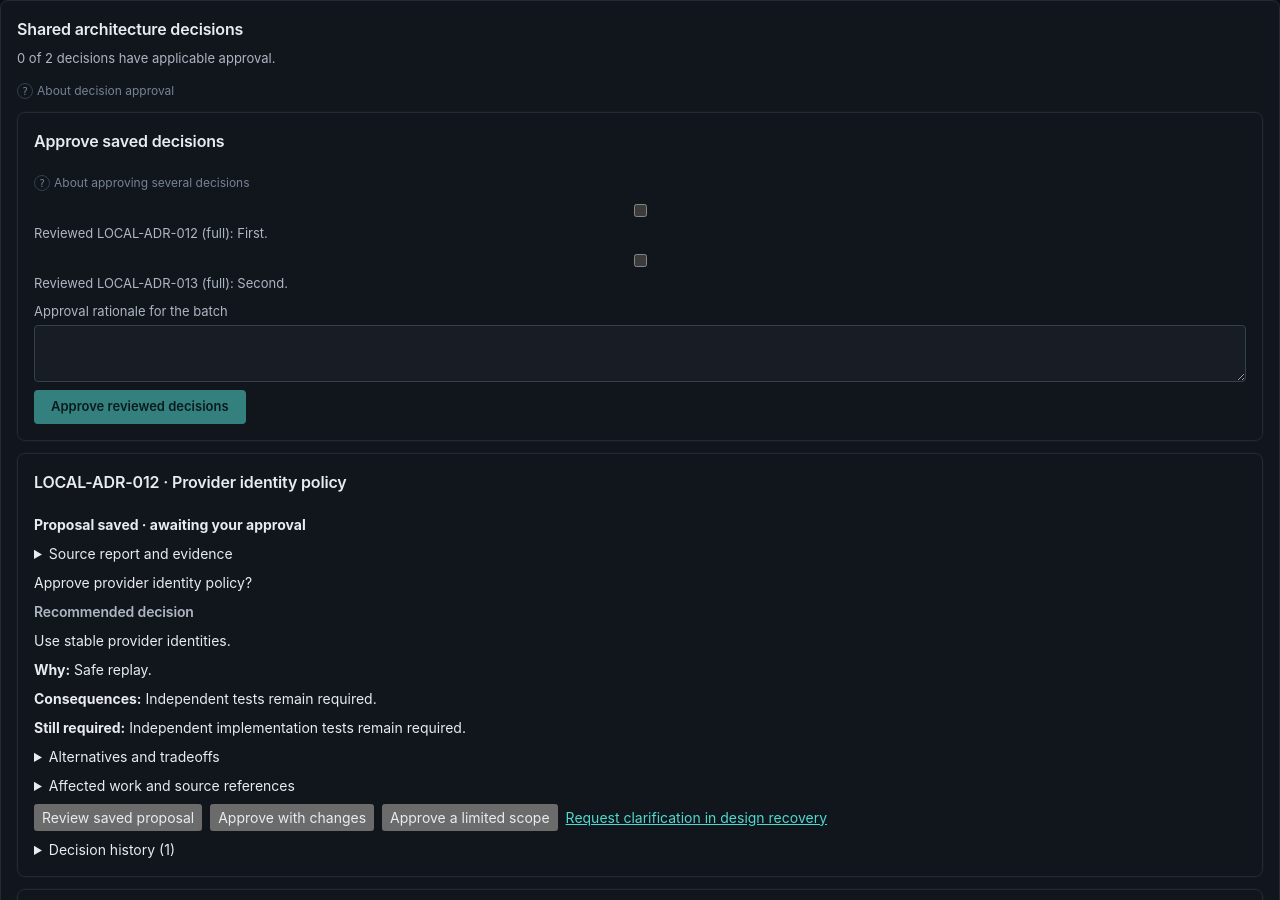
Test: keeps a batch’s report when its approvals leave fewer than two saved proposals (R-B6 increment 3 review M-2)
The width and height of the screenshot is (1280, 900).
Click the checkbox labelled "Reviewed LOCAL-ADR-012 (full): First.".
click(640, 210)  # box [38,204,1243,216]
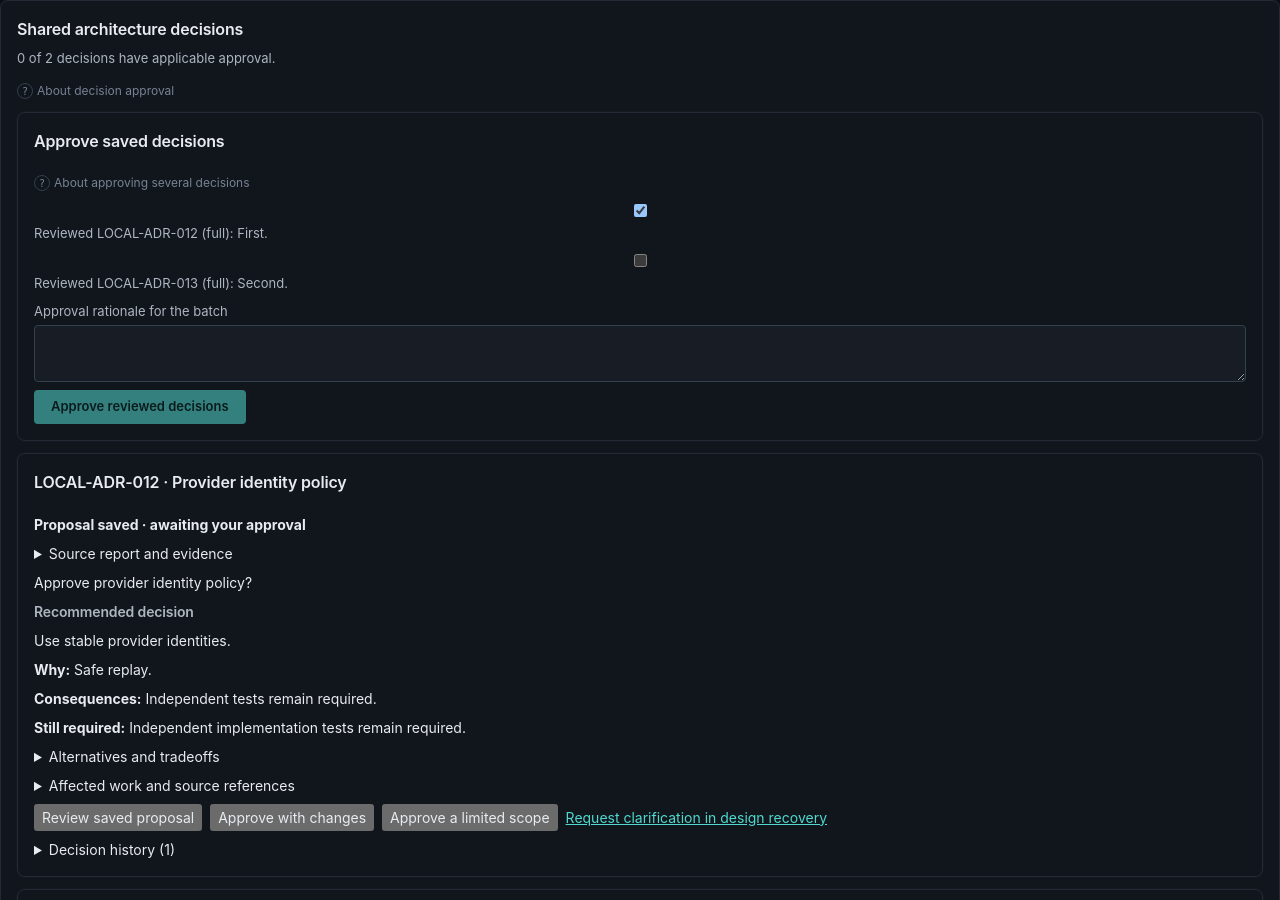
Click the checkbox labelled "Reviewed LOCAL-ADR-013 (full): Second.".
click(640, 260)  # box [38,254,1243,267]
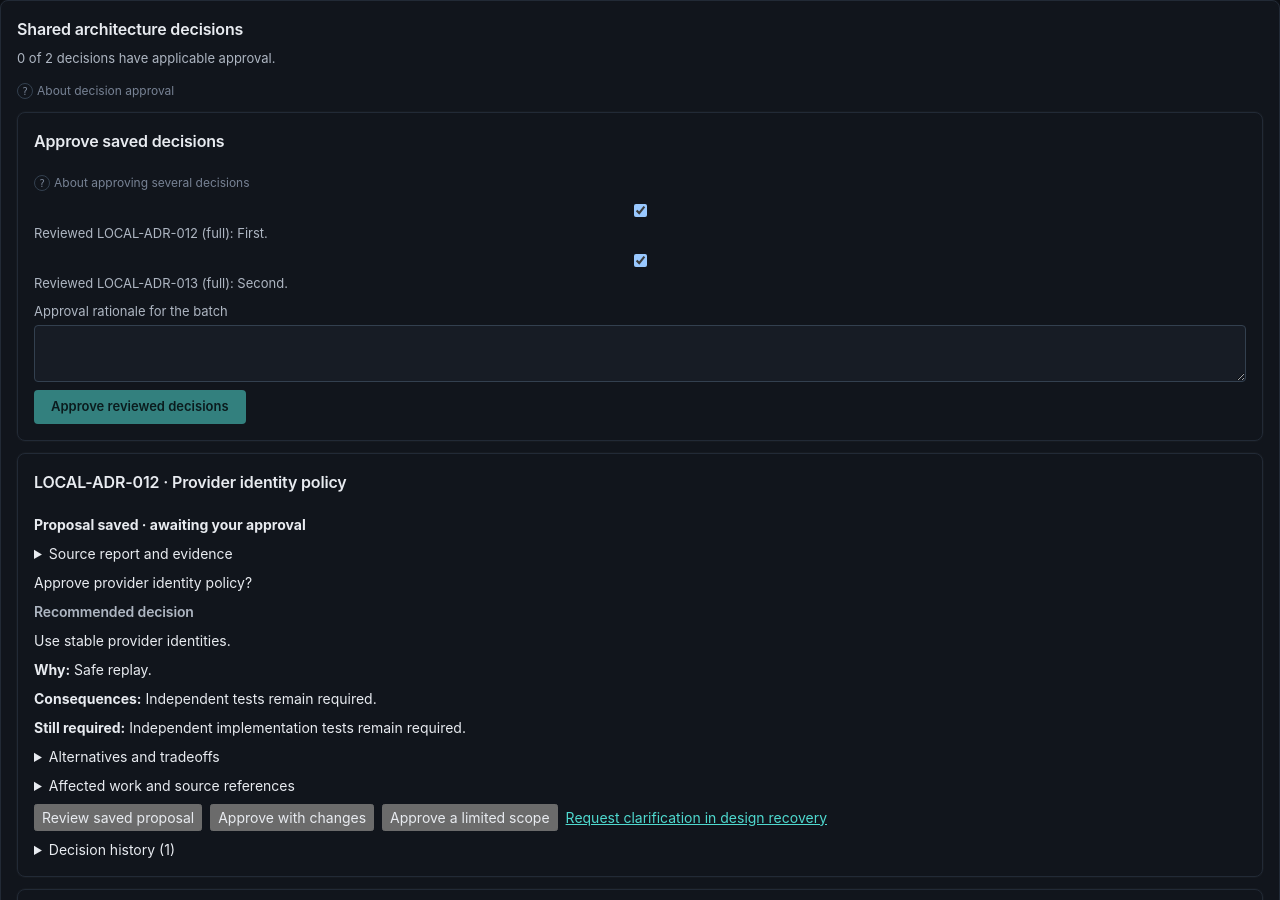
Type "Reviewed." into the text box labelled "Approval rationale for the batch".
click(640, 354); type("Reviewed.")  # box [34,325,1246,382]
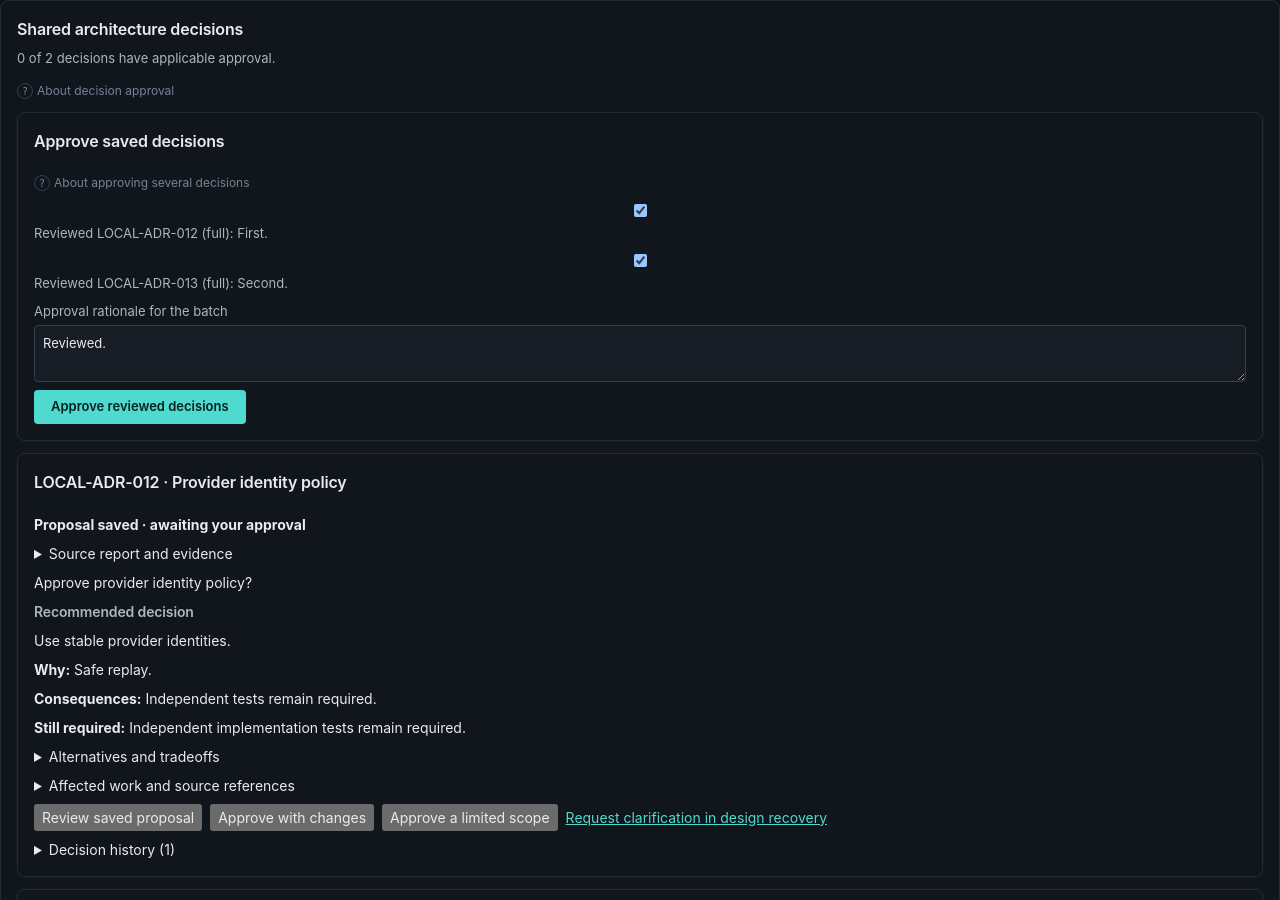
Click the button "Approve reviewed decisions".
click(140, 407)  # box [34,390,246,424]
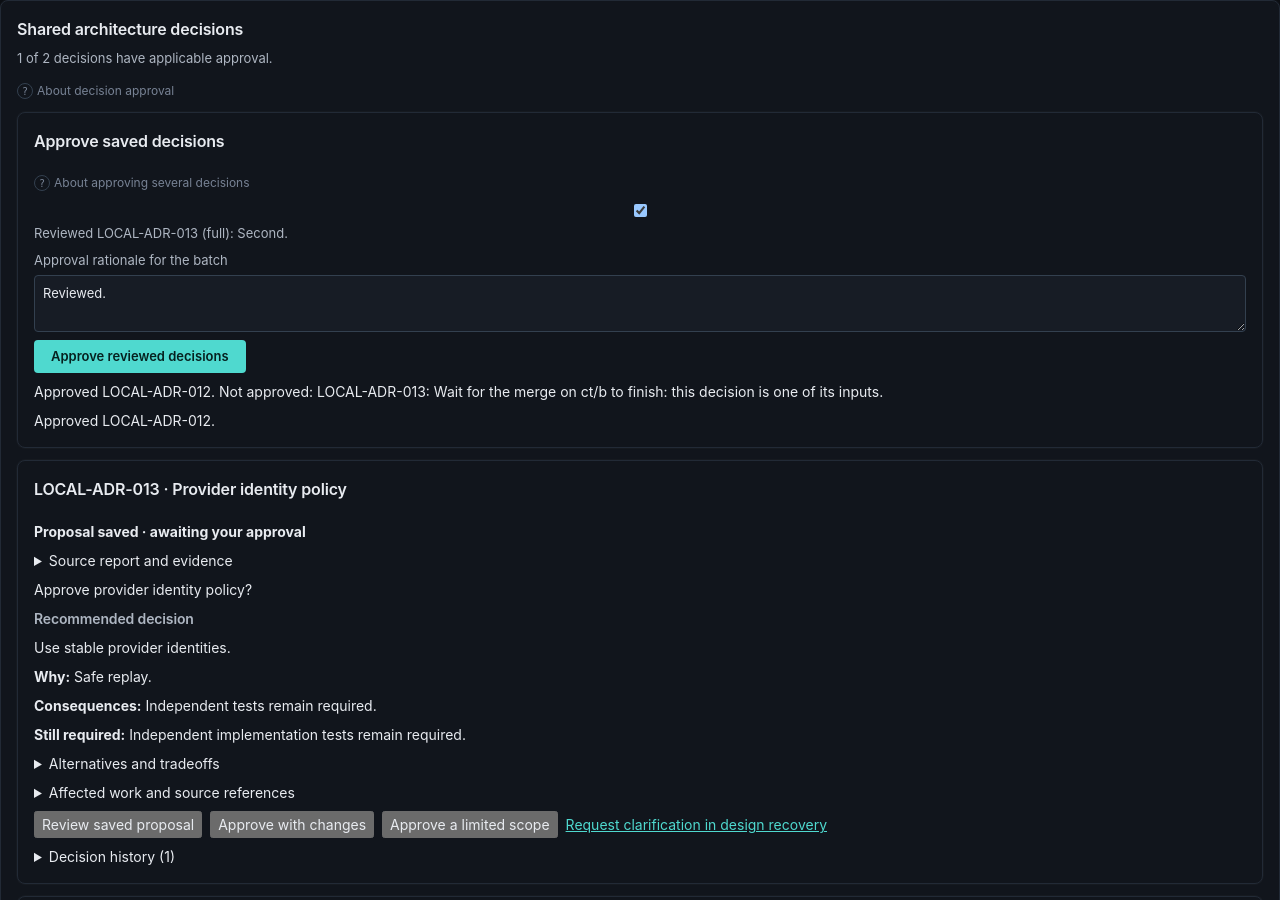
Now the checkbox labelled "Reviewed LOCAL-ADR-013 (full): Second." is checked, box [38,204,1243,216]
Now the message "Approved LOCAL-ADR-012." is shown, box [34,412,215,429]
